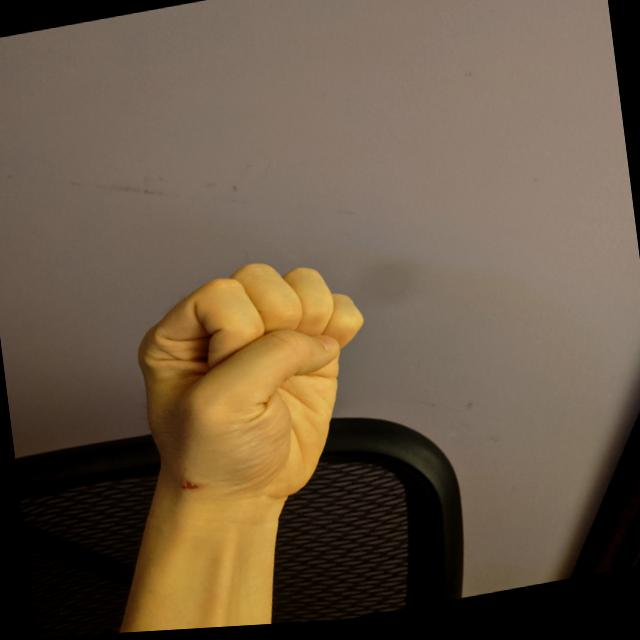E: (121, 239, 391, 529)
